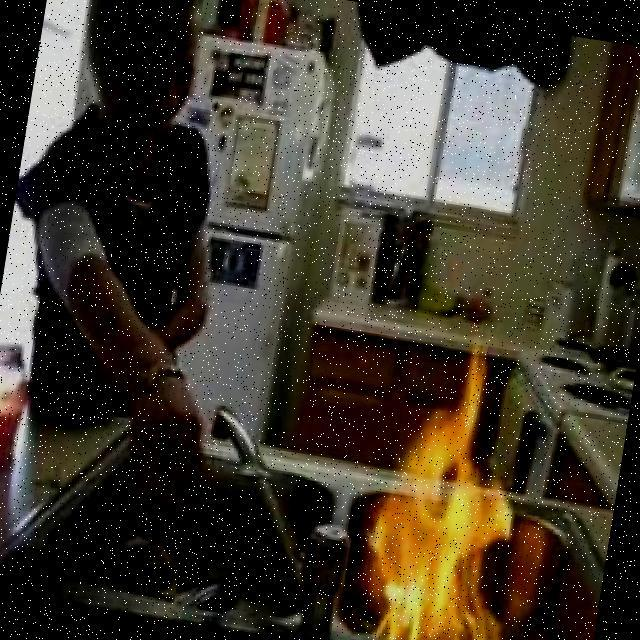Fire: (350, 348, 538, 640)
